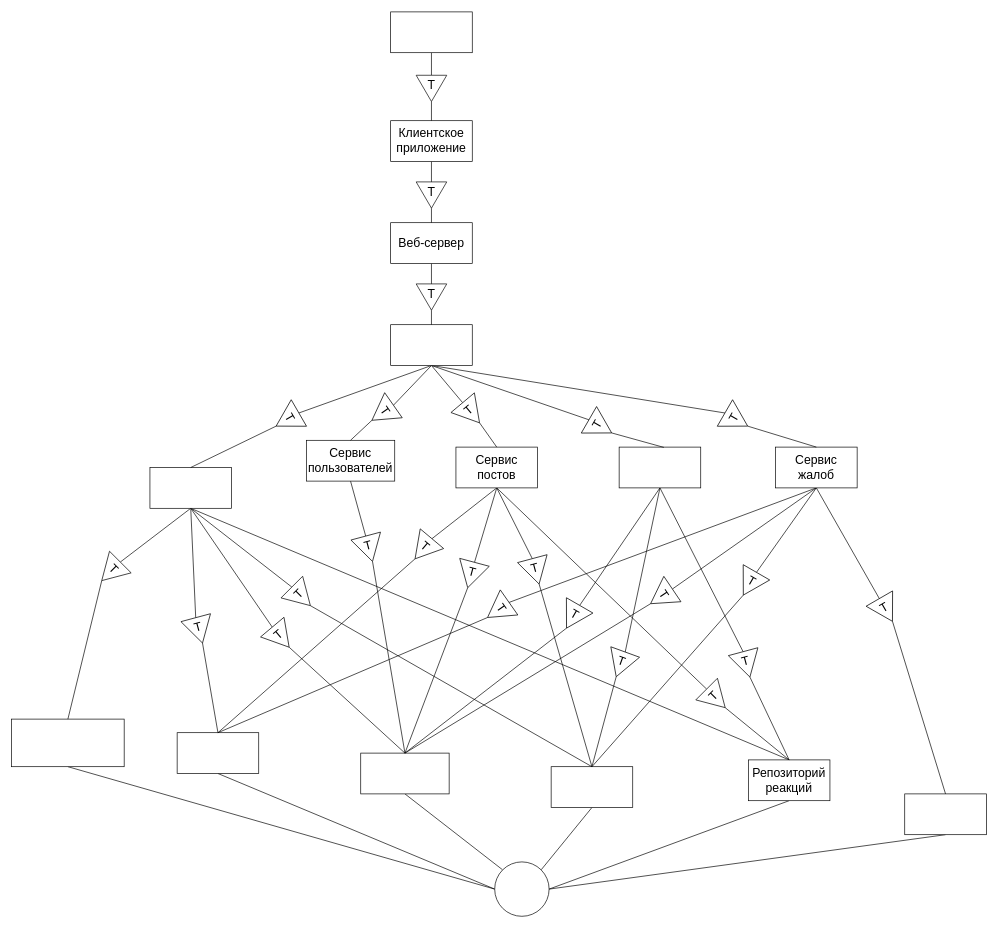
The diagram is 999 pixels wide and 928 high, and some of its shapes have lost their labels. Here are the shapes that lost their labels. From the top down, the box of each, then its label:
(390, 11, 472, 53): Браузер
(390, 324, 472, 366): Контроллер приложения
(618, 446, 701, 488): Сервис реакций
(149, 467, 232, 508): Сервис блогов
(11, 718, 124, 767): Репозиторий пользовательских подписок
(176, 732, 259, 774): Репозиторий блогов
(360, 752, 449, 794): Репозиторий пользователей
(550, 766, 633, 808): Репозиторий постов
(904, 793, 986, 835): Репозиторий жалоб
(494, 861, 549, 916): База данных системы
